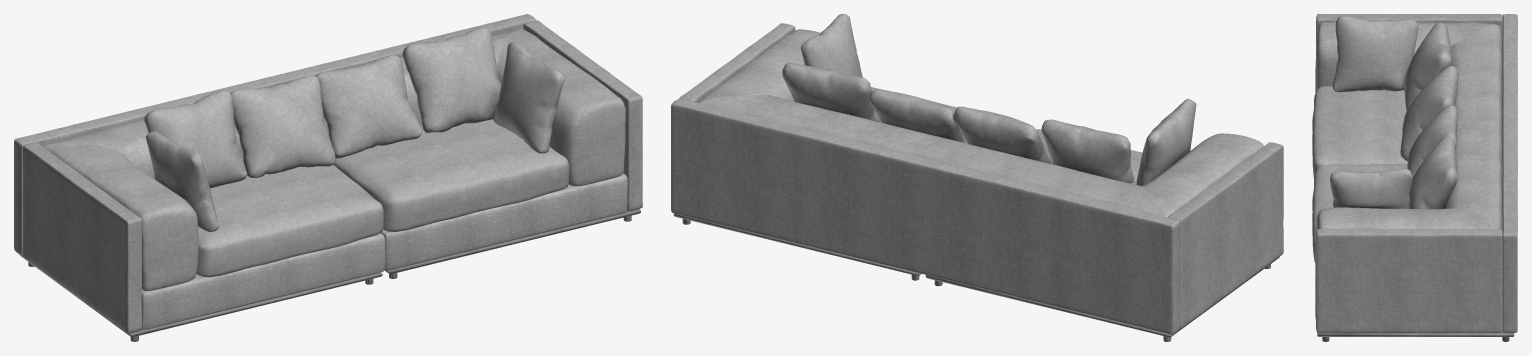
File: sofa-1-draco.glb
3 renders of one model, left to right at view 1: azimuth 30°, elevation 25°; view 2: azimuth 150°, elevation 25°; view 3: azimuth 270°, elevation 25°, orthographic. The views are drawn at different scales.
Visible parts, largest first — view 1: g; view 2: g; view 3: g.
Part boxes in pixels (x1=…): g: x1=14, y1=14, x2=642, y2=341; g: x1=671, y1=14, x2=1283, y2=341; g: x1=1312, y1=14, x2=1517, y2=341.
Size of the model in its own units: 2 by 0.6018 by 0.7838.
6 materials, 6 textured.
